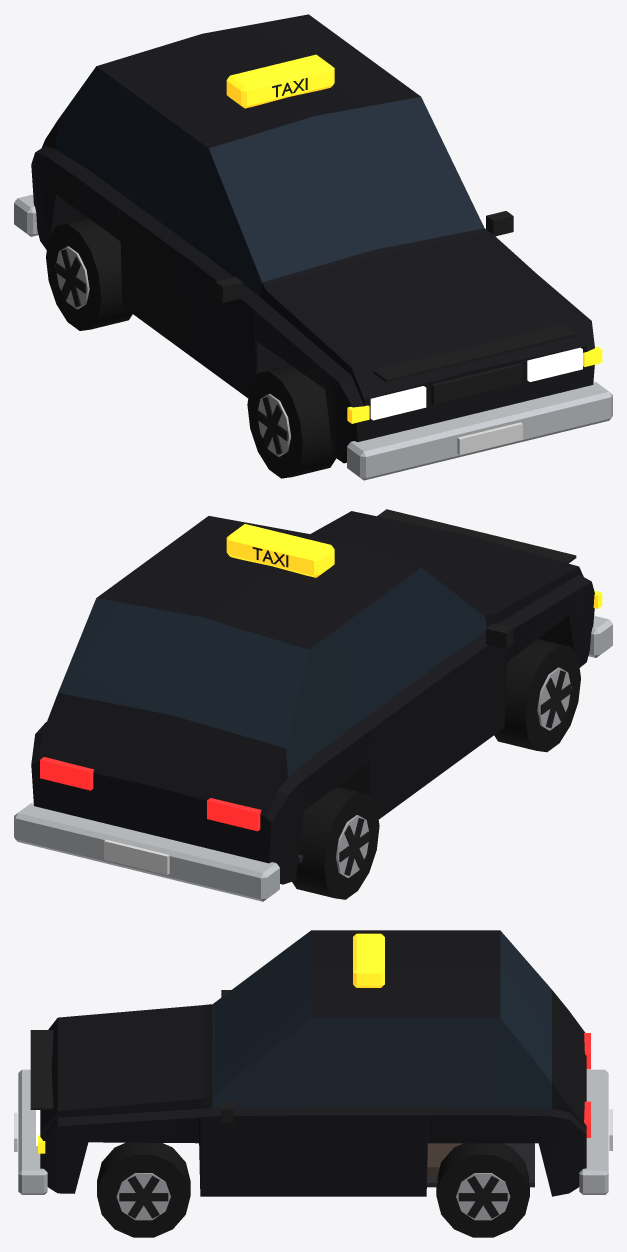
Rendered from taxi.glb.
3 renders of one model, top to bottom at view 1: azimuth 30°, elevation 25°; view 2: azimuth 150°, elevation 25°; view 3: azimuth 270°, elevation 25°, orthographic. The views are drawn at different scales.
Parts seen in each view (by area): view 1: taxi_body, taxi_door_r, taxi_door_br, taxi_wheel_fr, taxi_wheel_rr; view 2: taxi_body, taxi_door_r, taxi_door_br, taxi_wheel_rr, taxi_wheel_fr; view 3: taxi_body, taxi_door_l, taxi_door_bl, taxi_wheel_fl, taxi_wheel_rl.
Boxes of the visible parts, x1,y1,x2,y2 form: taxi_body: (14, 14, 612, 480); taxi_door_r: (165, 131, 260, 397); taxi_door_br: (120, 98, 180, 335); taxi_wheel_fr: (247, 365, 336, 478); taxi_wheel_rr: (46, 218, 132, 330); taxi_body: (14, 509, 612, 901); taxi_door_r: (398, 568, 513, 792); taxi_door_br: (352, 588, 413, 819); taxi_wheel_rr: (292, 786, 379, 899); taxi_wheel_fr: (494, 639, 580, 752); taxi_body: (14, 930, 612, 1196); taxi_door_l: (215, 1017, 350, 1196); taxi_door_bl: (357, 1017, 426, 1196); taxi_wheel_fl: (97, 1142, 190, 1237); taxi_wheel_rl: (436, 1143, 529, 1237).
Bounding box in the file's own units: 2.3 × 2.06 × 4.87.
